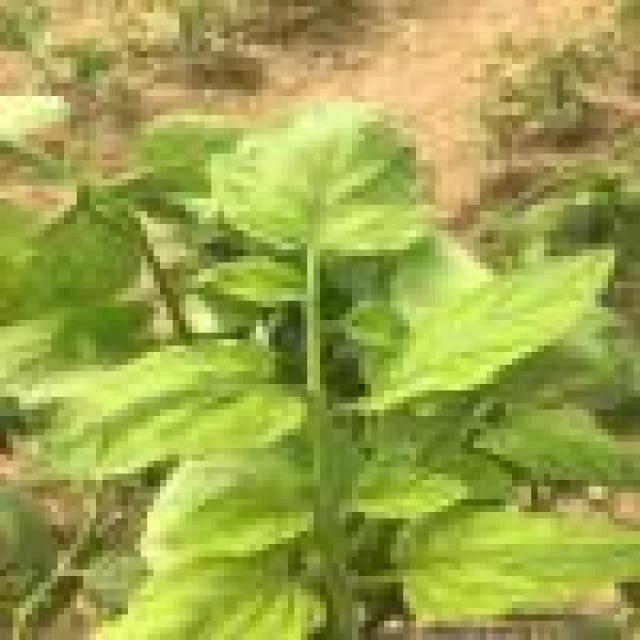Healthy Leaf: (26, 339, 288, 499), (204, 90, 442, 262), (371, 499, 634, 634), (371, 249, 608, 396), (128, 454, 339, 564)
